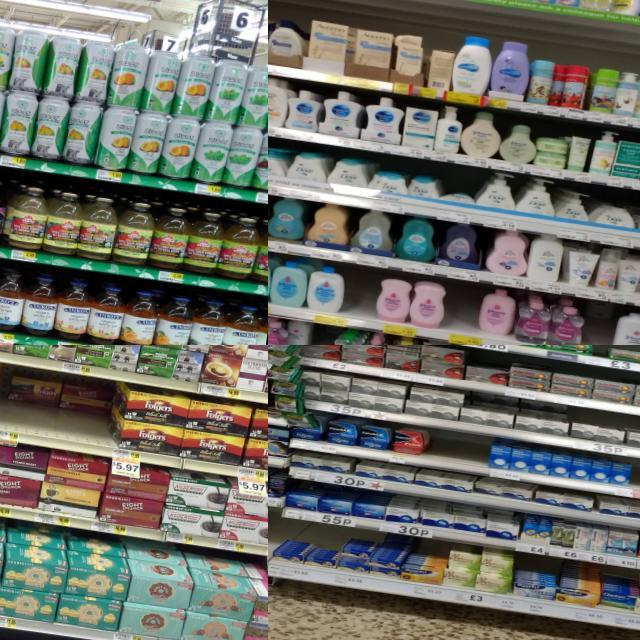void: (427, 430, 491, 474), (442, 279, 482, 345), (342, 266, 378, 330), (582, 316, 615, 346), (310, 326, 335, 344)
